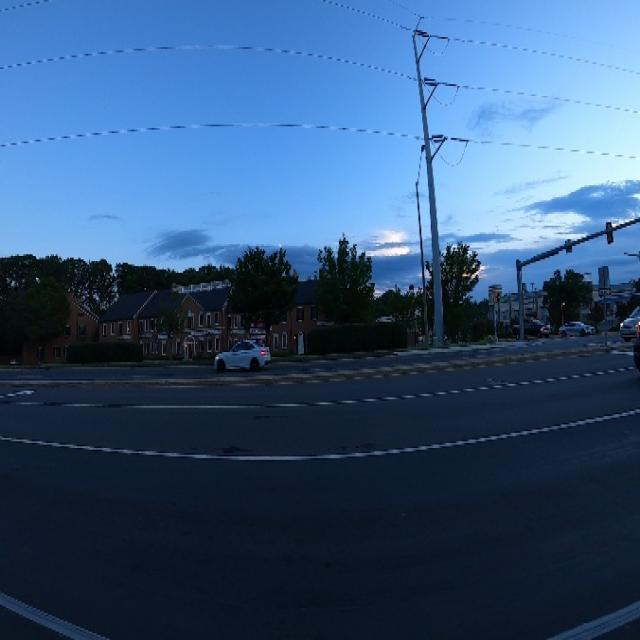cars: (209, 331, 270, 380), (558, 312, 596, 347), (615, 300, 640, 348)
